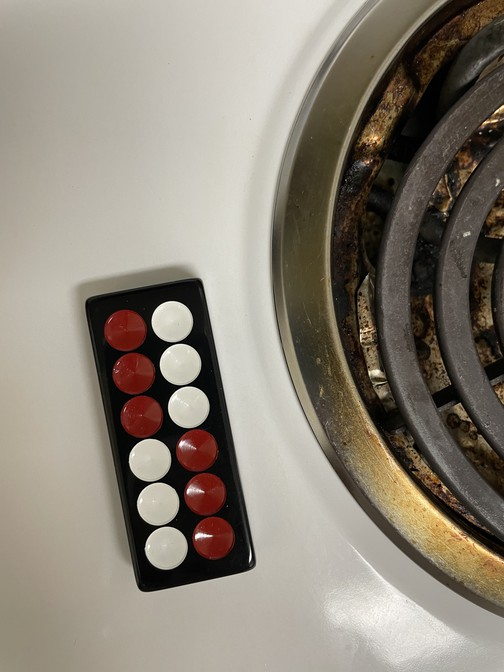heaven: (84, 277, 258, 593)
